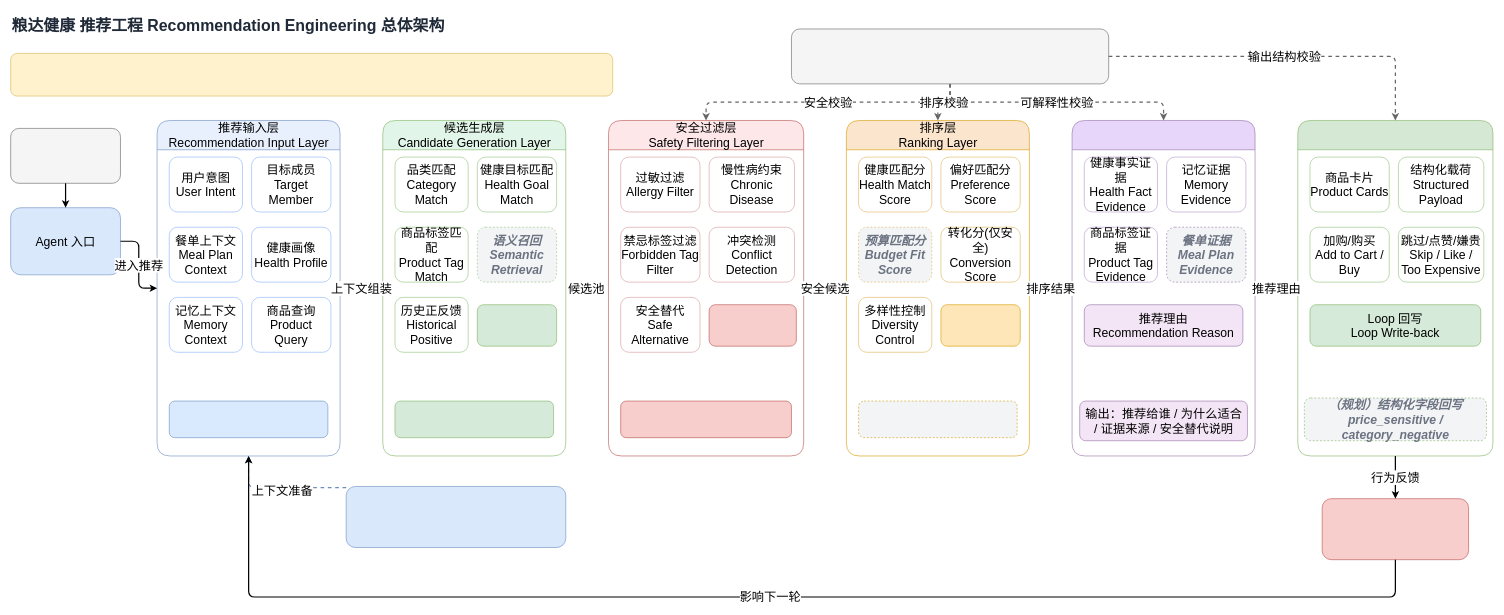
The diagram is 1504 pixels wide and 615 high, and some of its shapes have lost their labels. Here are the shapes that lost their labels. From the top down, the box of each, then its label:
(10, 53, 613, 96): 核心原则：安全禁忌 > 健康事实 > 健康目标 > 餐单场景 > 商品标签匹配 > 用户偏好 > 预算反馈 > 营销转化
(791, 28, 1109, 84): Harness 工程 Harness Engineering 验证推荐是否安全、准确、可解释、结构正确
(10, 128, 120, 183): 用户请求 User Request
(1071, 120, 1255, 456): 证据层 Evidence Layer
(1297, 120, 1493, 456): 输出与反馈层 Output & Feedback Layer
(477, 304, 557, 346): 候选池 Candidate Pool
(709, 304, 796, 346): 安全候选池 Safe Candidate Pool
(940, 304, 1020, 346): 最终排序 Final Ranking
(169, 400, 328, 438): 输出：推荐上下文
(394, 400, 554, 438): 输出：待过滤候选池
(620, 400, 791, 438): 规则：语义召回和转化信号都不能绕过安全过滤
(858, 400, 1017, 438): （规划）权重/大模型 Rerank
(346, 486, 566, 547): 上下文工程 Context Engineering 组织成员、画像、记忆、商品、安全上下文
(1322, 498, 1469, 560): Loop 工程 Loop Engineering 接收行为反馈并影响下一轮排序
